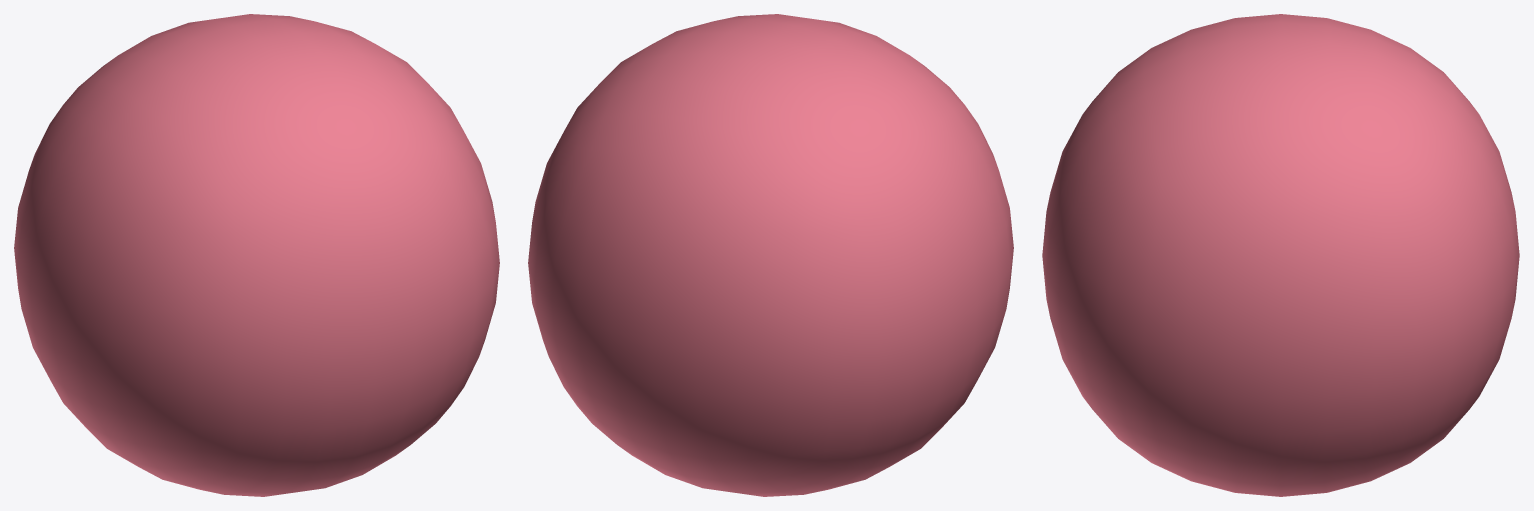
File: foodpink.fbx
3 views of the same model, side by side, from view 1: azimuth 30°, elevation 25°; view 2: azimuth 150°, elevation 25°; view 3: azimuth 270°, elevation 25° (orthographic).
Parts seen in each view (by area): view 1: Cube.001; view 2: Cube.001; view 3: Cube.001.
Part boxes in pixels (<box>): Cube.001: <box>14,14,499,496</box>; Cube.001: <box>528,14,1013,496</box>; Cube.001: <box>1042,14,1519,496</box>.
Size of the model in its own units: 443 by 443 by 443.
